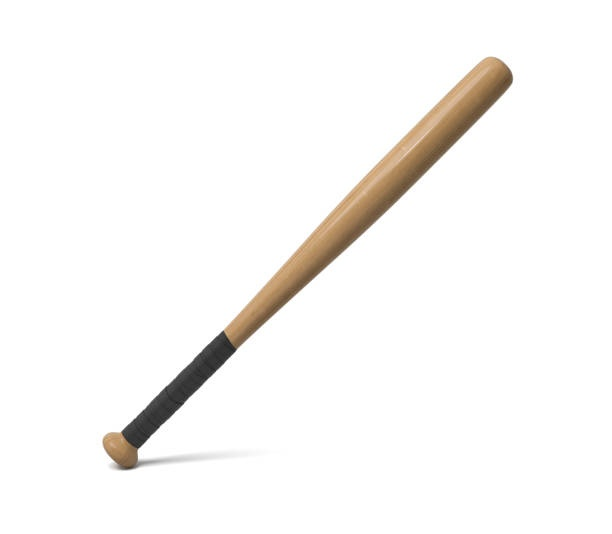bita: (94, 61, 511, 471)
